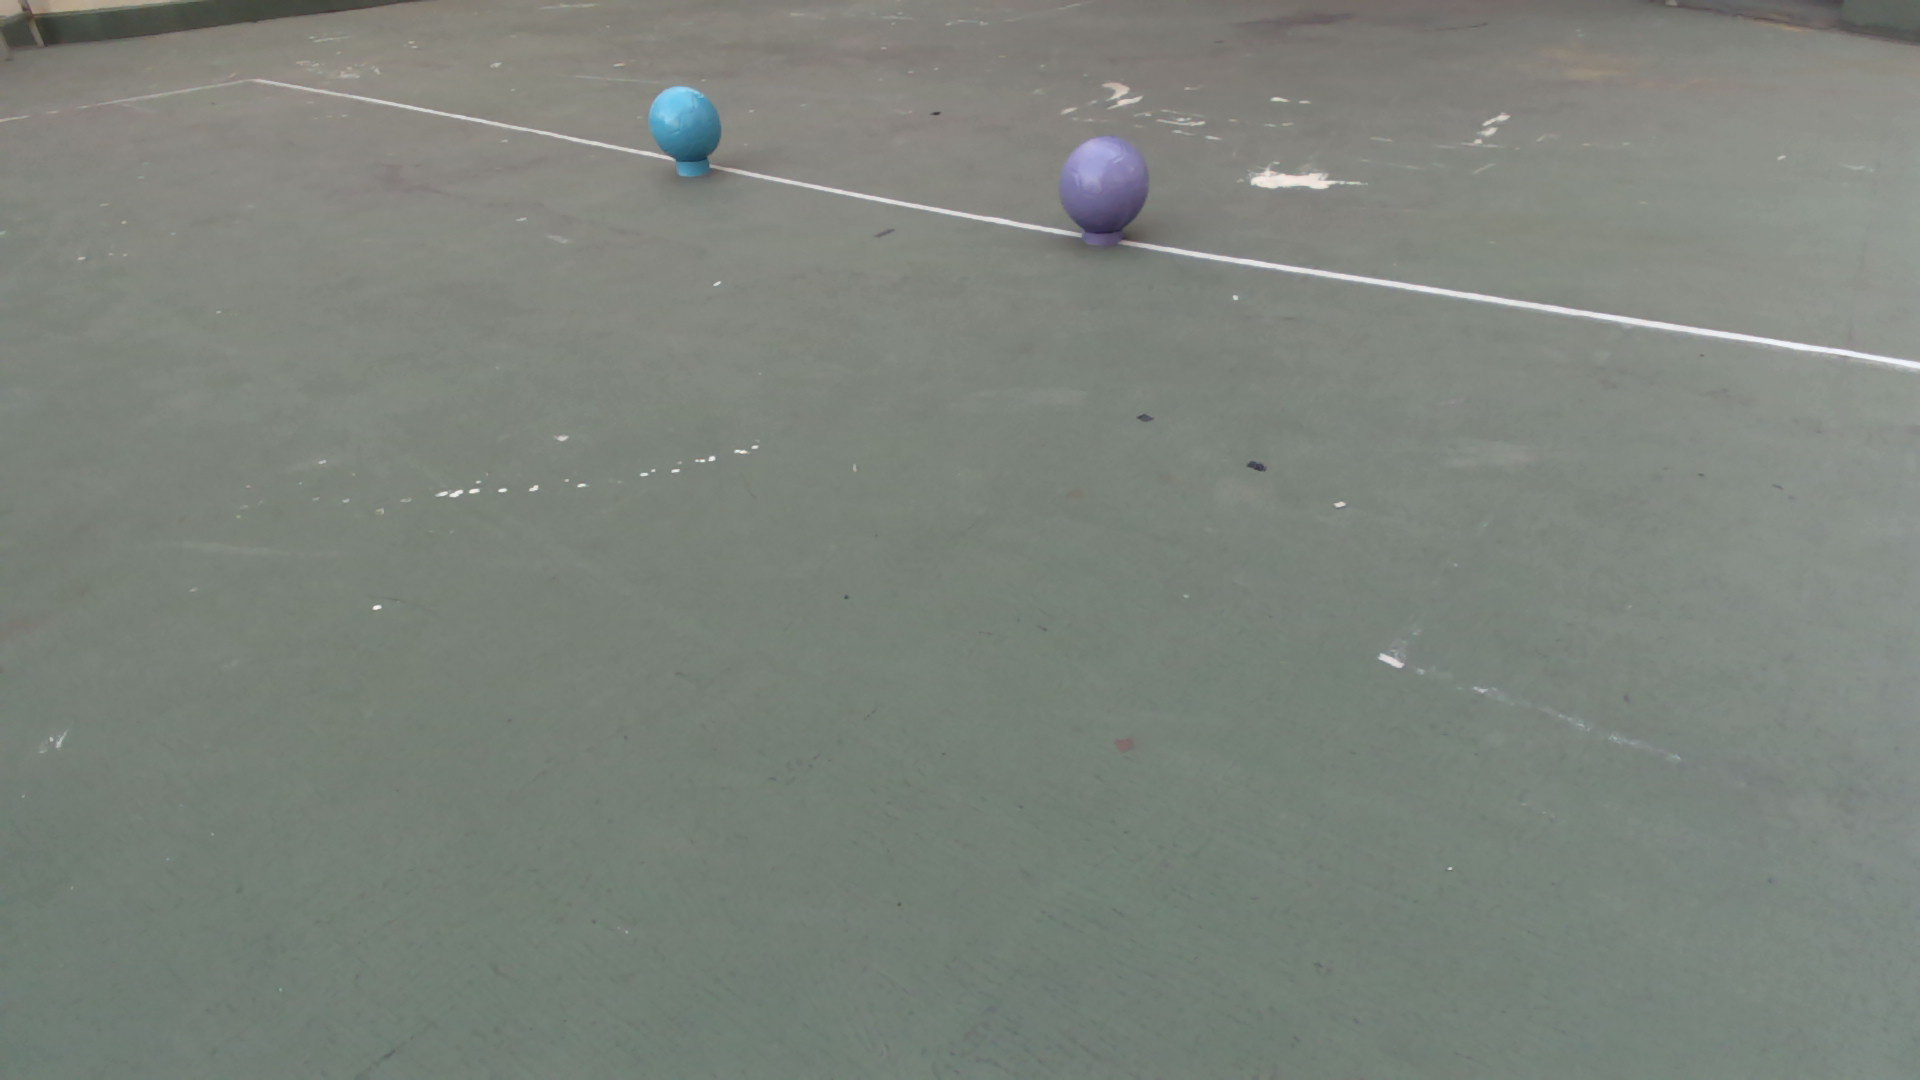Blue ball: (647, 84, 723, 162)
Purple ball: (1058, 133, 1150, 235)
